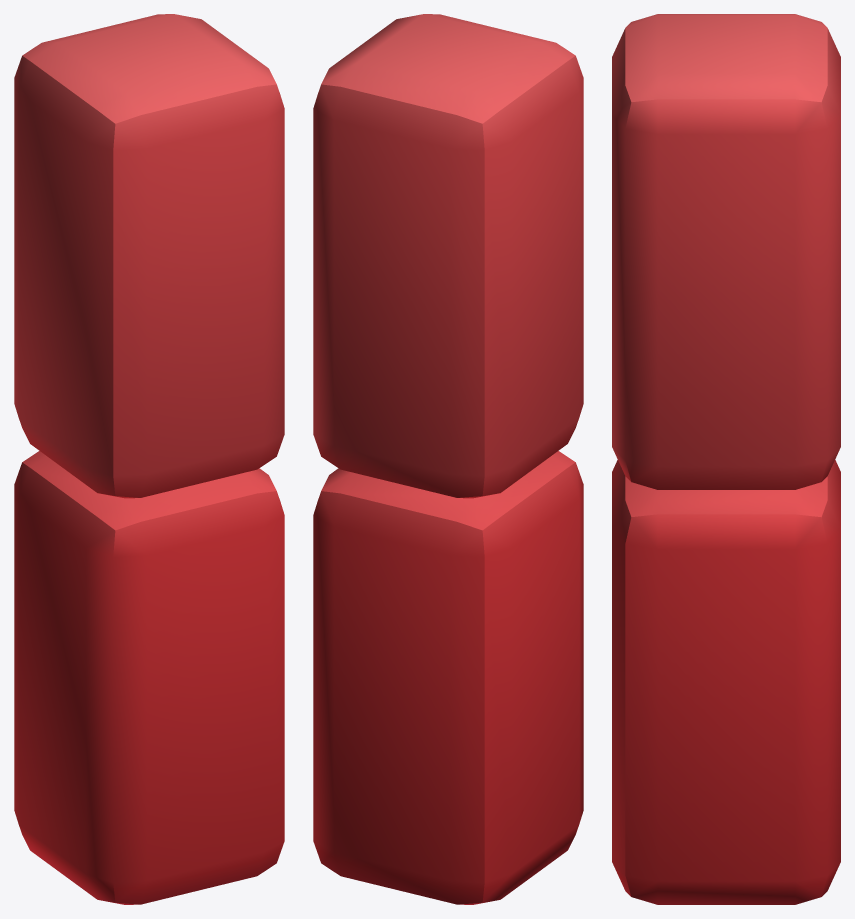
Rendered from kaykit_barrier_1x1x4_red.glb.
3 views of the same model, side by side, from view 1: azimuth 30°, elevation 25°; view 2: azimuth 150°, elevation 25°; view 3: azimuth 270°, elevation 25° (orthographic). The views are drawn at different scales.
Visible parts, largest first — view 1: barrier_1x1x4_red_visual; view 2: barrier_1x1x4_red_visual; view 3: barrier_1x1x4_red_visual.
Part boxes in pixels (box(x1,y1,x2,y2)): barrier_1x1x4_red_visual: box(14, 14, 284, 904); barrier_1x1x4_red_visual: box(313, 14, 583, 904); barrier_1x1x4_red_visual: box(612, 14, 840, 904).
Size of what is drawn, in the model's own units: 1 by 4 by 1.
1 material, 1 textured.
